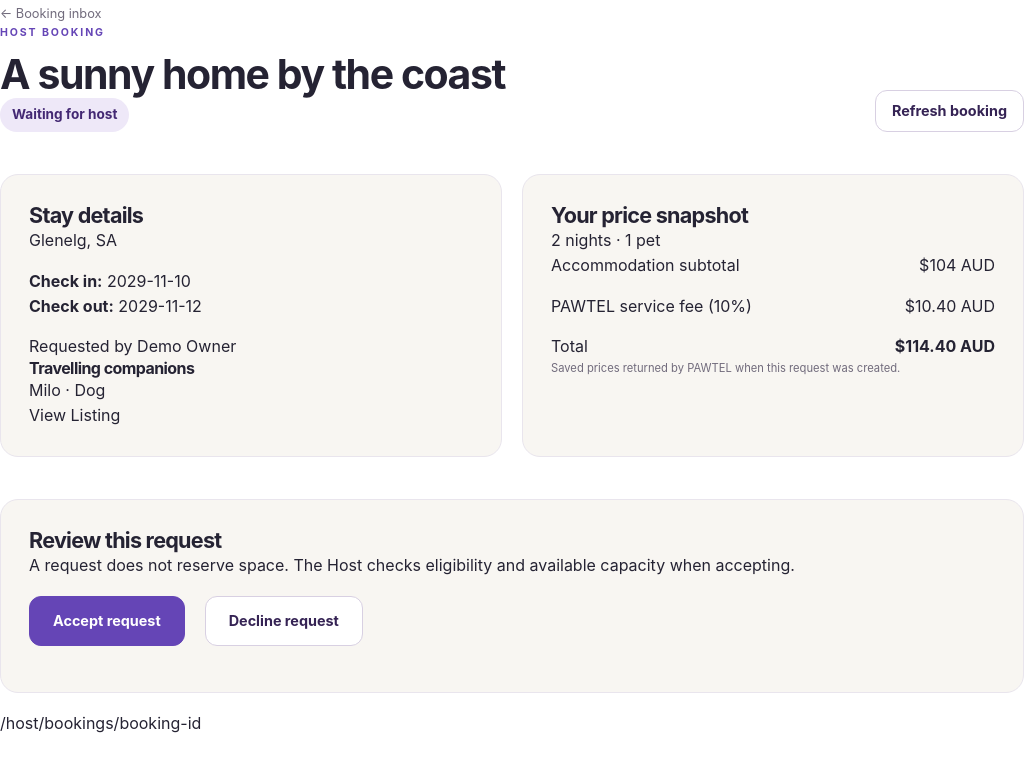
Scenario: Host acceptance handles booking_busy without pretending success
Click the button "Accept request" at (107, 621), box [29, 596, 185, 646]
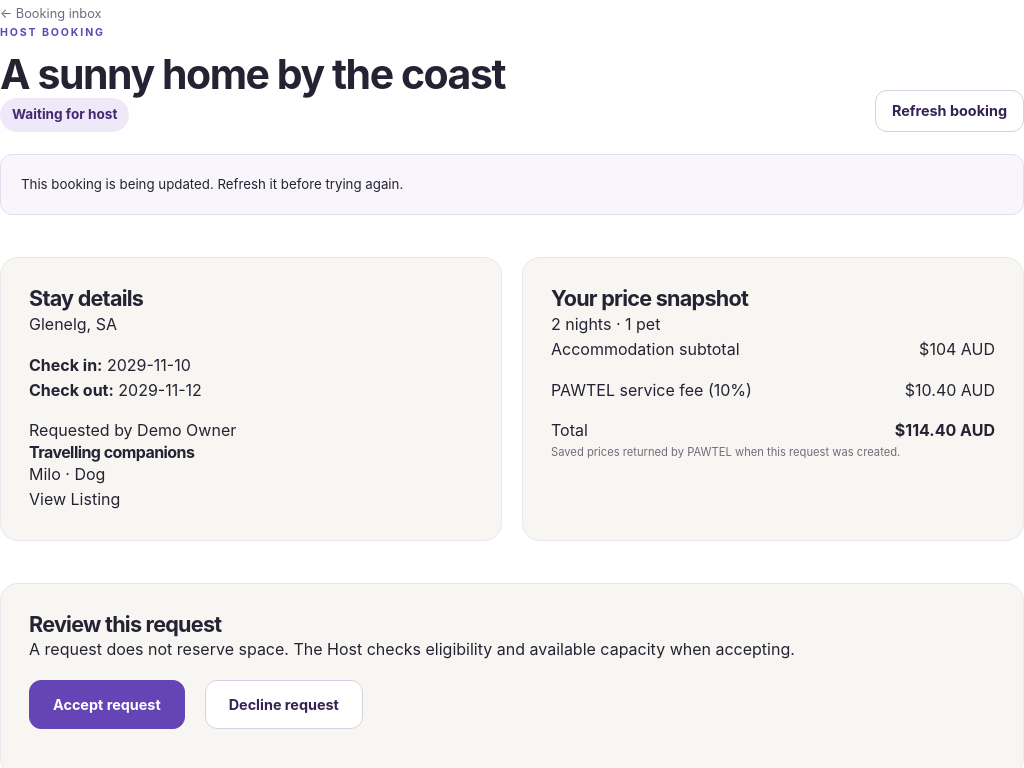
Check: the text "Waiting for host" is shown, box [0, 98, 129, 132]
Check: the message shows "being updated", box [21, 176, 403, 192]
